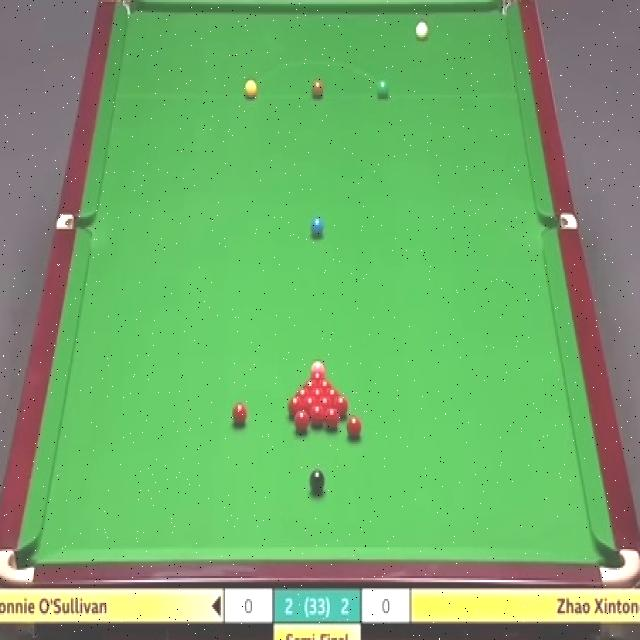black-ball: (308, 467, 324, 493)
blue-ball: (310, 218, 325, 235)
brown-ball: (311, 78, 324, 100)
green-ball: (376, 77, 390, 100)
pink-ball: (310, 361, 326, 376)
red-ball: (291, 409, 310, 432), (347, 416, 362, 440), (232, 402, 247, 426), (331, 395, 347, 416), (310, 404, 325, 426), (288, 396, 302, 418), (325, 408, 339, 430), (319, 397, 332, 418), (296, 387, 308, 400), (312, 388, 323, 401), (311, 373, 322, 385)
white-ball: (416, 20, 428, 41)
yellow-ball: (245, 78, 257, 100)
